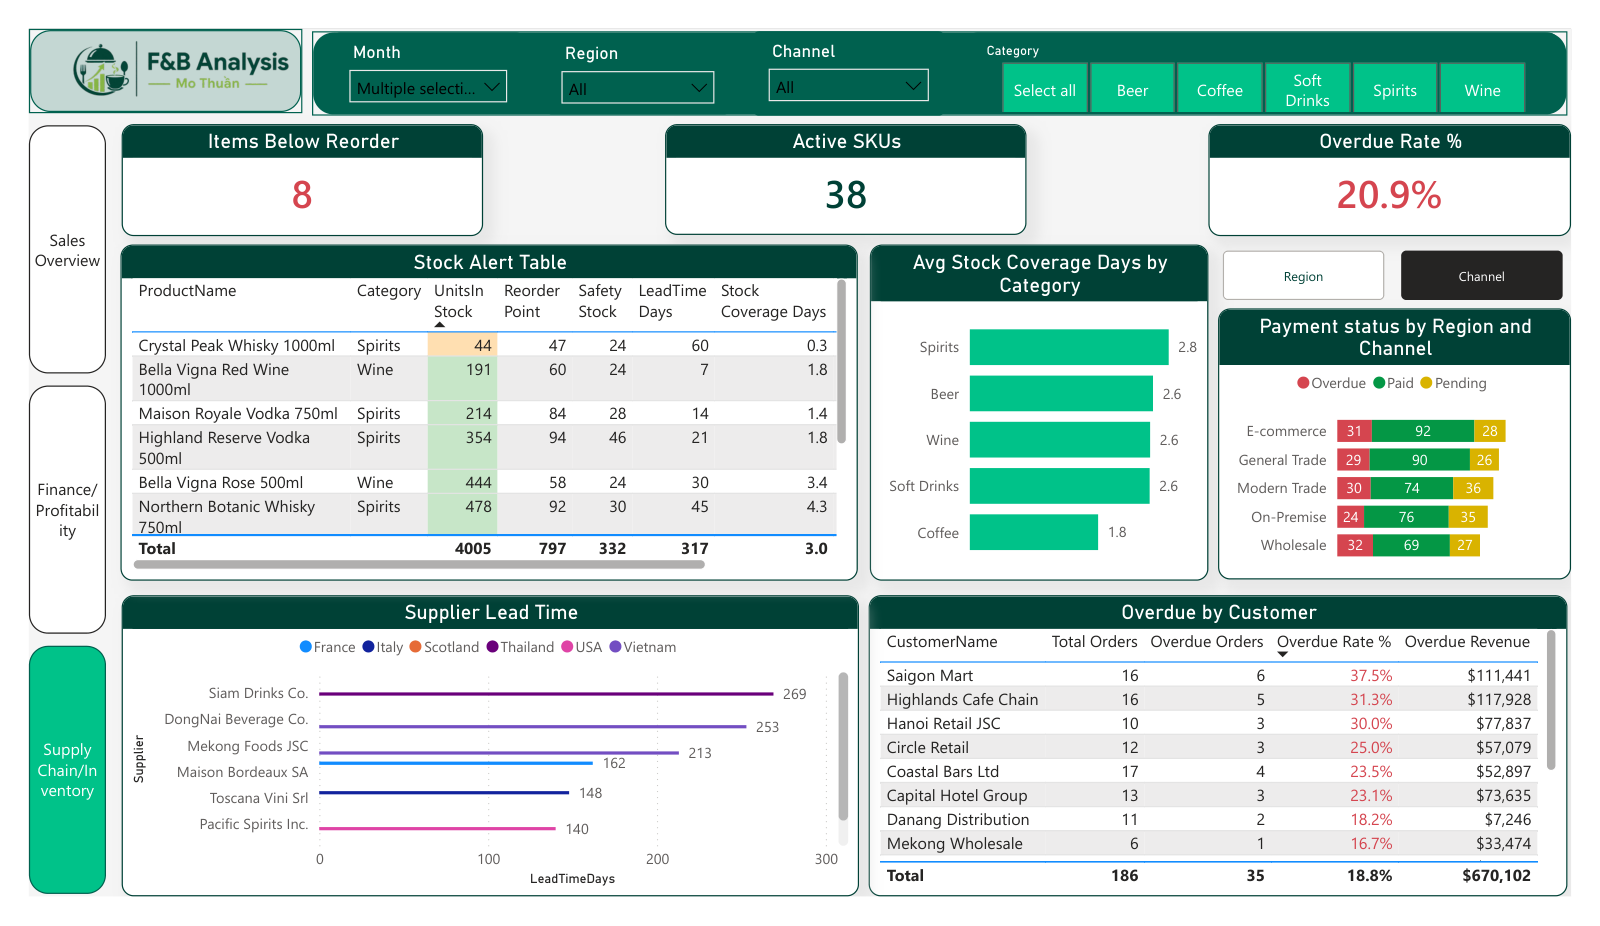

What the dashboard file says about the page in this screenshot:
{"tool":"powerbi","page":{"name":"Supply Chain/Inventory","canvas":[1280,720],"ordinal":2},"visuals":[{"type":"shape","box":[0,0,227.1,70],"z":0},{"type":"cardVisual","title":"Items Below Reorder","fields":{"Data":["_Measures.Items Below Reorder"]},"box":[77.1,79,300,92.9],"z":1000},{"type":"cardVisual","title":"Active SKUs","fields":{"Data":["_Measures.Active SKUs"]},"box":[527.9,79.5,300,92],"z":2000},{"type":"cardVisual","title":"Overdue Rate %","fields":{"Data":["_Measures.Overdue Rate %"]},"box":[978.6,79,301.4,92.9],"z":3000},{"type":"clusteredBarChart","title":"Avg Stock Coverage Days by Category","fields":{"Category":["DIM_Products.Category"],"Y":["_Measures.Stock Coverage Days average per Category"]},"box":[697.5,178.8,281.2,278.8],"z":4000},{"type":"barChart","title":"Payment status by Region and Channel","fields":{"Category":["FACT_Sales.Channel"],"Series":["FACT_Sales.PaymentStatus"],"Y":["CountNonNull(FACT_Sales.OrderID)"]},"box":[986.9,231.8,293.1,225.6],"z":5000},{"type":"tableEx","title":"Overdue by Customer","fields":{"Values":["FACT_Sales.CustomerName","_Measures.Total Orders","_Measures.Overdue Orders","_Measures.Overdue Rate %","_Measures.Overdue Revenue"]},"box":[697.1,470,580,250],"z":6000},{"type":"clusteredBarChart","title":"Supplier Lead Time","fields":{"Category":["DIM_Products.Supplier"],"Series":["DIM_Products.SupplierCountry"],"Y":["Sum(DIM_Products.LeadTimeDays)"]},"box":[77.1,470,611.4,250],"z":7000},{"type":"image","box":[0,0,251.5,66.9],"z":8000},{"type":"pageNavigator","box":[0,80,64,640],"z":9000},{"type":"tableEx","title":"Stock Alert Table","fields":{"Values":["DIM_Products.ProductName","DIM_Products.Category","Sum(DIM_Products.UnitsInStock)","Sum(DIM_Products.ReorderPoint)","Sum(DIM_Products.SafetyStock)","Sum(DIM_Products.LeadTimeDays)","_Measures.Stock Coverage Days","DIM_Products.Supplier"]},"box":[76.2,178.8,611.2,278.8],"z":10000},{"type":"advancedSlicerVisual","fields":{"Values":["Dim Selector.Dim Selector"]},"box":[986.2,178.8,293.8,51.2],"z":11000},{"type":"shape","box":[235,1.7,1041.7,70],"z":12000},{"type":"slicer","fields":{"Values":["DIM_Date.Month Name"]},"box":[253.3,3.3,156.7,66.7],"z":13000},{"type":"slicer","fields":{"Values":["FACT_Sales.Region"]},"box":[428.6,3.6,153.8,66.9],"z":14000},{"type":"slicer","fields":{"Values":["FACT_Sales.Channel"]},"box":[601.1,2.1,158.6,70],"z":15000},{"type":"slicer","fields":{"Values":["DIM_Products.Category"]},"box":[778.3,3.3,491.7,66.7],"z":16000}]}

Visuals, with their boxes in screenshot pixels (x1, y1, x2, y2), scaled from the page's 1280x720 canvas onto the 1600x926 screenshot:
shape: locate(0, 0, 284, 90)
"Items Below Reorder" cardVisual: locate(96, 102, 471, 221)
"Active SKUs" cardVisual: locate(660, 102, 1035, 221)
"Overdue Rate %" cardVisual: locate(1223, 102, 1599, 221)
"Avg Stock Coverage Days by Category" clusteredBarChart: locate(872, 230, 1223, 589)
"Payment status by Region and Channel" barChart: locate(1234, 298, 1599, 588)
"Overdue by Customer" tableEx: locate(871, 604, 1596, 925)
"Supplier Lead Time" clusteredBarChart: locate(96, 604, 861, 925)
image: locate(0, 0, 314, 86)
pageNavigator: locate(0, 103, 80, 925)
"Stock Alert Table" tableEx: locate(95, 230, 859, 589)
advancedSlicerVisual - Dim Selector.Dim Selector: locate(1233, 230, 1599, 296)
shape: locate(294, 2, 1596, 92)
slicer - DIM_Date.Month Name: locate(317, 4, 512, 90)
slicer - FACT_Sales.Region: locate(536, 5, 728, 91)
slicer - FACT_Sales.Channel: locate(751, 3, 950, 93)
slicer - DIM_Products.Category: locate(973, 4, 1588, 90)
